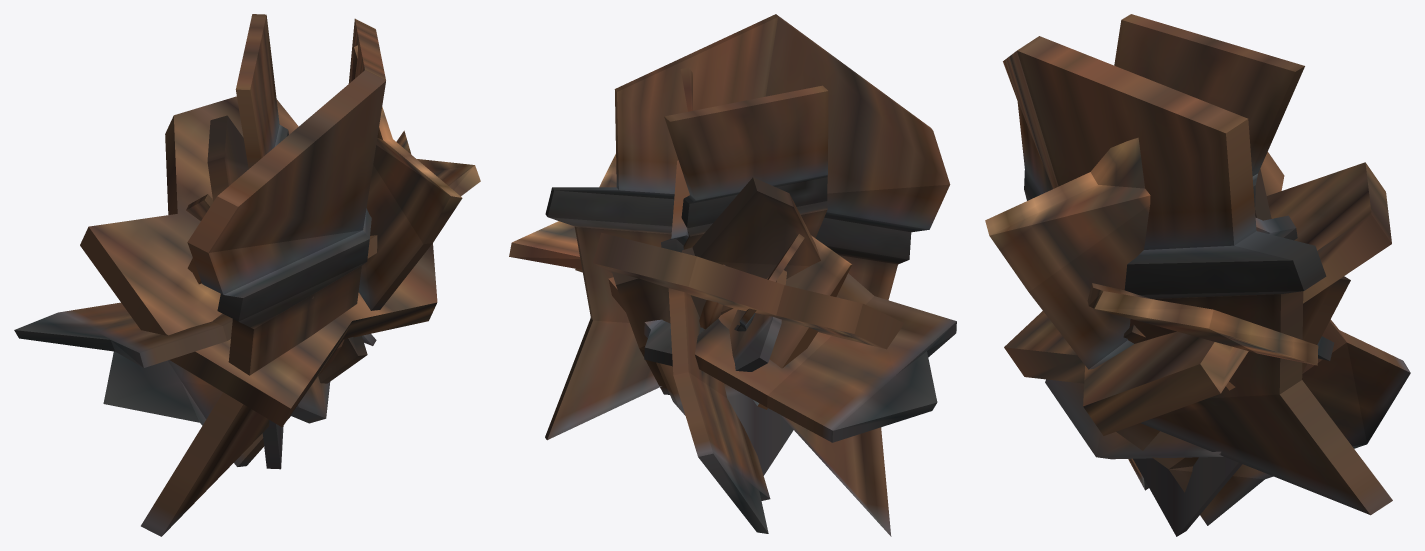
The model's file is mutong_2.FBX.
The picture shows the model from 3 angles, left to right: view 1: azimuth 30°, elevation 25°; view 2: azimuth 150°, elevation 25°; view 3: azimuth 270°, elevation 25°; orthographic projection. The views are drawn at different scales.
Parts seen in each view (by area): view 1: mutong_sp2, mutong_sp3, mutong_sp4, mutong_sp1, mutong_sp6, mutong_sp8; view 2: mutong_sp2, mutong_sp1, mutong_sp6, mutong_sp3, mutong_sp4, mutong_sp8, mutong_sp5, mutong_sp7, mutong_sp9; view 3: mutong_sp2, mutong_sp4, mutong_sp3, mutong_sp6, mutong_sp1, mutong_sp8.
Part boxes in pixels (x1,y1,x2,y2): mutong_sp2: (141,18,385,536); mutong_sp3: (80,96,437,426); mutong_sp4: (103,45,462,466); mutong_sp1: (14,130,480,367); mutong_sp6: (235,14,288,469); mutong_sp8: (207,115,330,423); mutong_sp2: (545,14,950,536); mutong_sp1: (509,154,956,442); mutong_sp6: (656,85,828,475); mutong_sp3: (575,232,903,349); mutong_sp4: (661,67,770,533); mutong_sp8: (612,177,820,394); mutong_sp5: (718,235,852,409); mutong_sp7: (729,270,786,371); mutong_sp9: (734,234,804,331); mutong_sp2: (1003,36,1392,515); mutong_sp4: (985,137,1410,525); mutong_sp3: (1004,152,1391,435); mutong_sp6: (1114,14,1304,536); mutong_sp1: (1087,283,1334,365); mutong_sp8: (1045,168,1350,459).
Size of the model in its own units: 28.98 by 21.59 by 30.58.
Materials: 1 (1 with a texture image).
